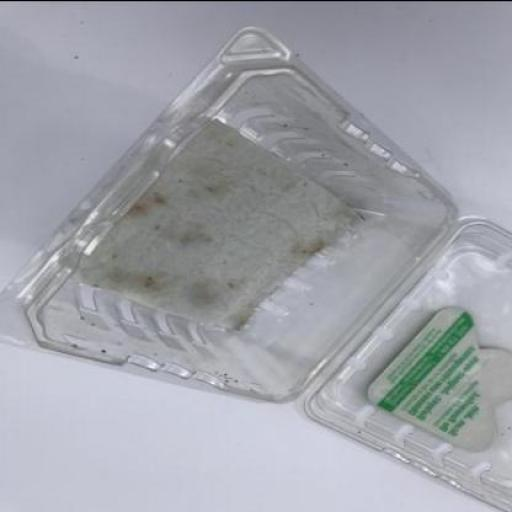plastic: (1, 26, 512, 511), (2, 28, 460, 405), (299, 213, 512, 511)
